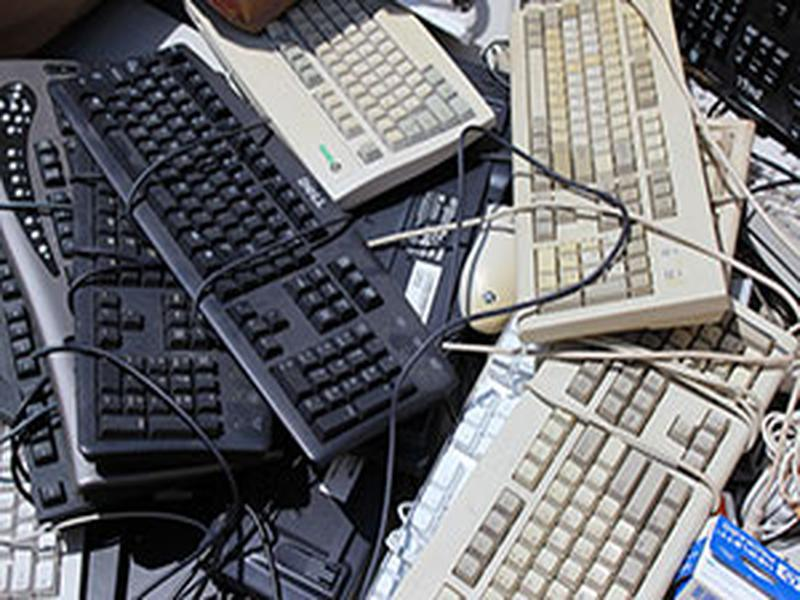keyboard: (48, 48, 462, 464), (375, 294, 800, 600), (496, 1, 733, 350), (188, 1, 498, 202)
